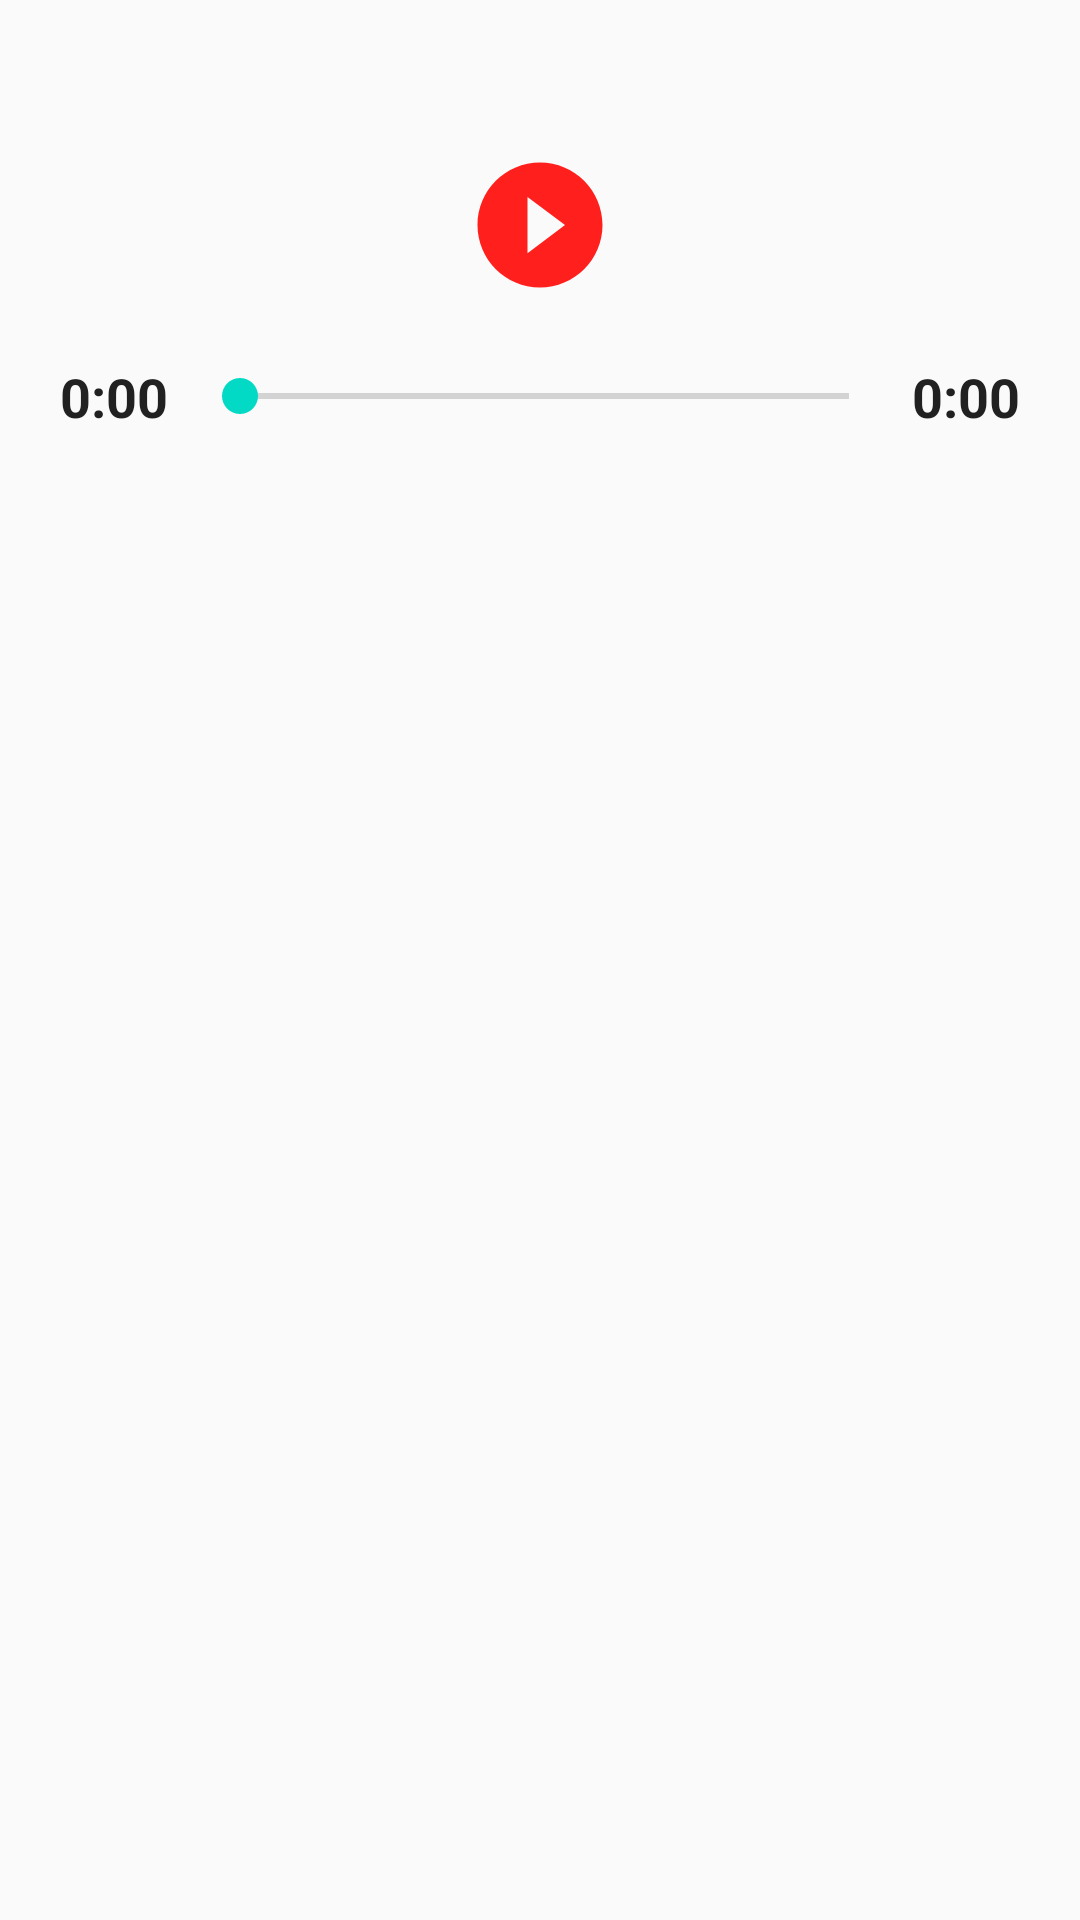

Point at icon controls on the screen. Image size 1080*1920, points as [x,y].
play: [540,225]
